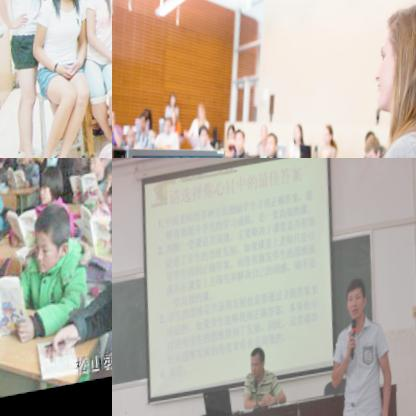head: (363, 0, 416, 148), (29, 206, 80, 283), (36, 169, 67, 212), (345, 284, 373, 330), (249, 348, 272, 387), (84, 158, 111, 189), (98, 161, 112, 212), (233, 131, 248, 158), (265, 135, 281, 158), (364, 141, 385, 158), (199, 125, 213, 149), (324, 130, 337, 155), (226, 125, 239, 149), (163, 120, 177, 142), (138, 110, 150, 134), (294, 127, 306, 150), (126, 126, 138, 148), (197, 103, 209, 123), (168, 92, 179, 111), (20, 158, 35, 171), (260, 126, 270, 144), (112, 109, 117, 130), (0, 158, 12, 164)
